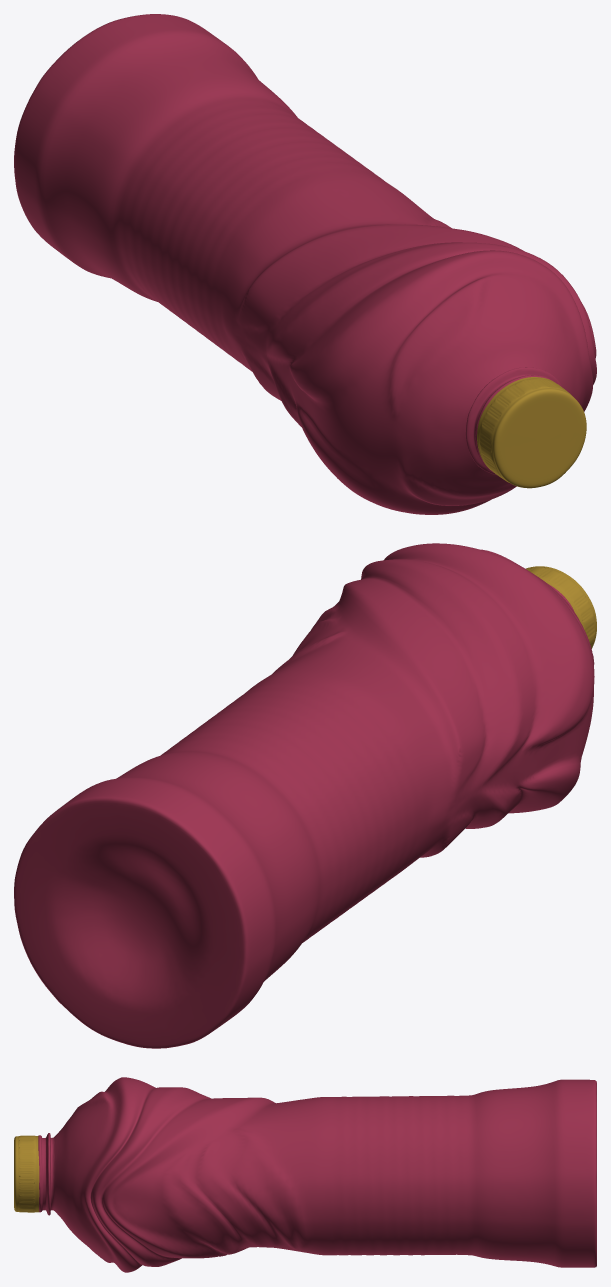
Rendered from botella.obj.
3 renders of one model, top to bottom at view 1: azimuth 30°, elevation 25°; view 2: azimuth 150°, elevation 25°; view 3: azimuth 270°, elevation 25°, orthographic. The views are drawn at different scales.
Parts seen in each view (by area): view 1: Line012_Retopo, Object003_Retopo; view 2: Line012_Retopo, Object003_Retopo; view 3: Line012_Retopo, Object003_Retopo.
Part boxes in pixels (x1,y1,x2,y2): Line012_Retopo: (14,14,596,514); Object003_Retopo: (477,377,586,488); Line012_Retopo: (14,543,594,1048); Object003_Retopo: (526,566,596,648); Line012_Retopo: (38,1077,596,1272); Object003_Retopo: (14,1135,39,1212).
Size of the model in its own units: 4.73 by 4.34 by 13.03.
